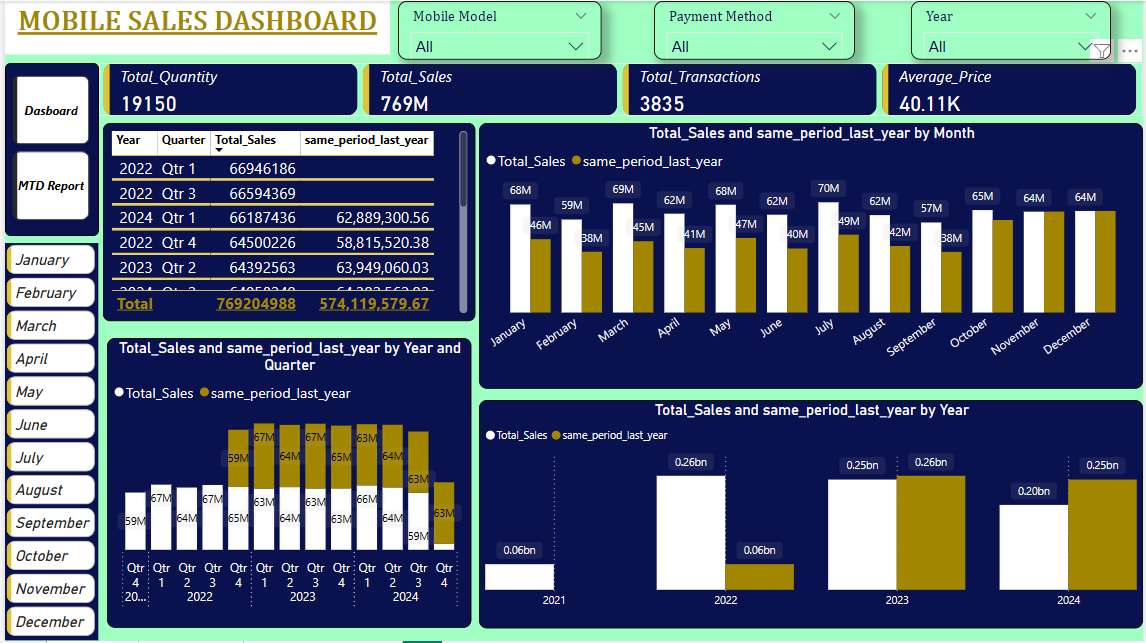

The dashboard page shown, as its layout file describes it:
{"tool":"powerbi","page":{"name":"Same period last year","canvas":[1280,720],"ordinal":2},"visuals":[{"type":"shape","box":[0,69.8,105.8,194.6],"z":0},{"type":"textbox","box":[0,0,433.1,60.4],"z":1000},{"type":"cardVisual","fields":{"Data":["Sales_Data.Total_Quantity","Sales_Data.Total_Sales","Sales_Data.Total_Transactions","Sales_Data.Average_Price"]},"box":[105.8,69.8,1174.5,59.6],"z":2000},{"type":"slicer","fields":{"Values":["Sales_Data.Mobile Model"]},"box":[442.1,0,228.8,65.5],"z":3000},{"type":"slicer","fields":{"Values":["Sales_Data.Payment Method"]},"box":[730,0,226.2,65.5],"z":4000},{"type":"slicer","fields":{"Values":["Custom_Calender.Date.Variation.Date Hierarchy.Year"]},"box":[1019.1,0,224.9,65.5],"z":5000},{"type":"advancedSlicerVisual","fields":{"Values":["Custom_Calender.Date.Variation.Date Hierarchy.Month"]},"box":[0,272.4,105.4,447.2],"z":6000},{"type":"tableEx","fields":{"Values":["Custom_Calender.Date.Variation.Date Hierarchy.Year","Custom_Calender.Date.Variation.Date Hierarchy.Quarter","Sales_Data.Total_Sales","Sales_Data.same_period_last_year"]},"box":[110.2,137.2,418.5,222.8],"z":7000},{"type":"columnChart","fields":{"Y":["Sales_Data.Total_Sales","Sales_Data.same_period_last_year"],"Category":["Custom_Calender.Date.Variation.Date Hierarchy.Year","Custom_Calender.Date.Variation.Date Hierarchy.Quarter","Custom_Calender.Date.Variation.Date Hierarchy.Month","Custom_Calender.Date.Variation.Date Hierarchy.Day"]},"box":[114.8,379.1,409.5,326.2],"z":8000},{"type":"clusteredColumnChart","fields":{"Y":["Sales_Data.Total_Sales","Sales_Data.same_period_last_year"],"Category":["Custom_Calender.Date.Variation.Date Hierarchy.Year","Custom_Calender.Date.Variation.Date Hierarchy.Quarter","Custom_Calender.Date.Variation.Date Hierarchy.Month","Custom_Calender.Date.Variation.Date Hierarchy.Day"]},"box":[533.2,448.9,747,256.5],"z":9000},{"type":"clusteredColumnChart","fields":{"Category":["Custom_Calender.Date.Variation.Date Hierarchy.Year","Custom_Calender.Date.Variation.Date Hierarchy.Quarter","Custom_Calender.Date.Variation.Date Hierarchy.Month","Custom_Calender.Date.Variation.Date Hierarchy.Day"],"Y":["Sales_Data.Total_Sales","Sales_Data.same_period_last_year"]},"box":[533.2,137.2,747,299.2],"z":10000},{"type":"pageNavigator","box":[6.8,82.1,92.2,169.9],"z":10001}]}

Visuals, with their boxes in screenshot pixels (x1, y1, x2, y2), scaled from the page's 1280x720 canvas onto the 1146x643 screenshot:
shape: crop(0, 62, 95, 236)
textbox: crop(0, 0, 388, 54)
cardVisual - Sales_Data.Total_Quantity x Sales_Data.Total_Sales: crop(95, 62, 1145, 116)
slicer - Sales_Data.Mobile Model: crop(396, 0, 601, 58)
slicer - Sales_Data.Payment Method: crop(654, 0, 856, 58)
slicer - Custom_Calender.Date.Variation.Date Hierarchy.Year: crop(912, 0, 1114, 58)
advancedSlicerVisual - Custom_Calender.Date.Variation.Date Hierarchy.Month: crop(0, 243, 94, 642)
tableEx - Custom_Calender.Date.Variation.Date Hierarchy.Year x Custom_Calender.Date.Variation.Date Hierarchy.Quarter: crop(99, 123, 473, 322)
columnChart - Sales_Data.Total_Sales x Sales_Data.same_period_last_year: crop(103, 339, 469, 630)
clusteredColumnChart - Sales_Data.Total_Sales x Sales_Data.same_period_last_year: crop(477, 401, 1145, 630)
clusteredColumnChart - Custom_Calender.Date.Variation.Date Hierarchy.Year x Custom_Calender.Date.Variation.Date Hierarchy.Quarter: crop(477, 123, 1145, 390)
pageNavigator: crop(6, 73, 89, 225)
